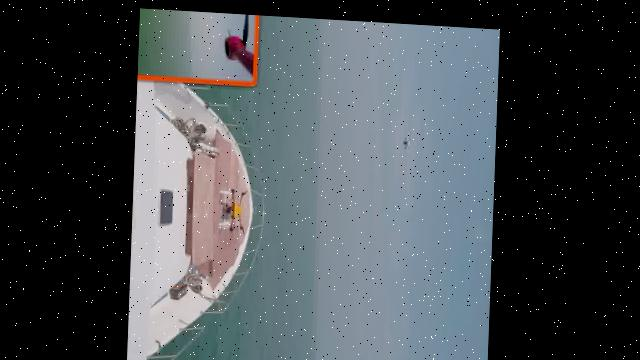drone: (218, 180, 255, 235), (394, 126, 423, 148)
